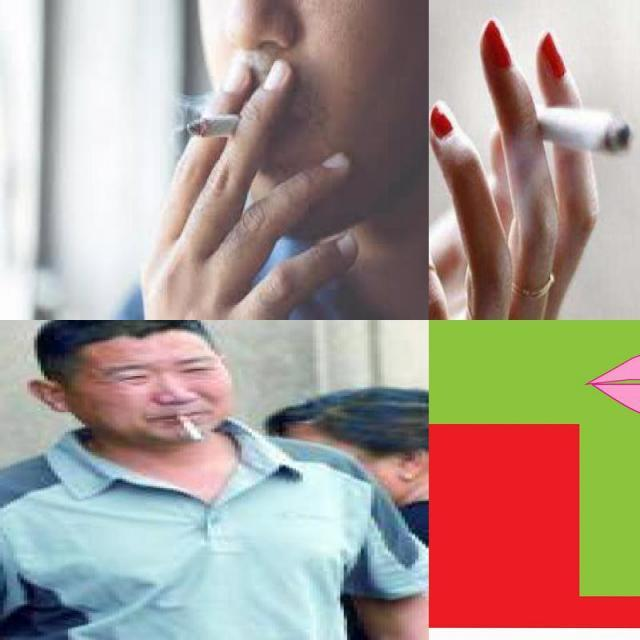cigarette: (519, 96, 634, 170), (186, 115, 271, 138), (163, 410, 211, 445)
